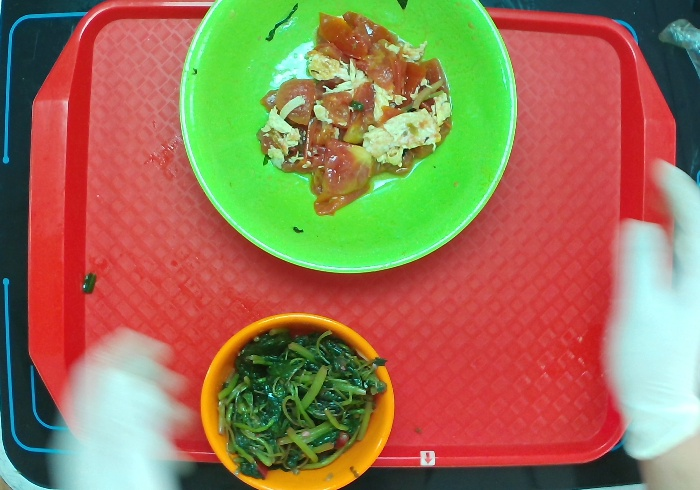YKMZ-Ju_Se_Yuan_Wan: (194, 308, 399, 490)
YKMZ-Lv_Se_Tang_Wan: (173, 1, 516, 279)
